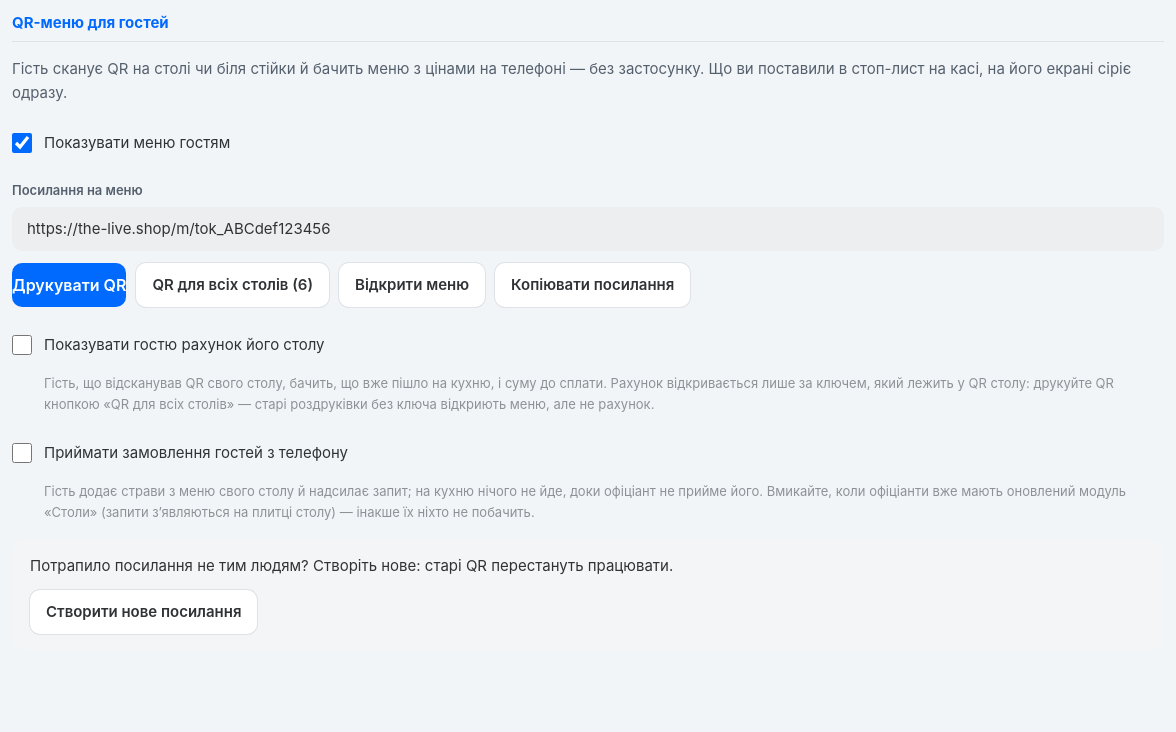
Test case: PublicMenuCard › switches the guest bill with its own field, leaving the menu’s switch alone
Click the checkbox labelled "Показувати гостю рахунок його столу" at (22, 345), box [12,335,32,355]
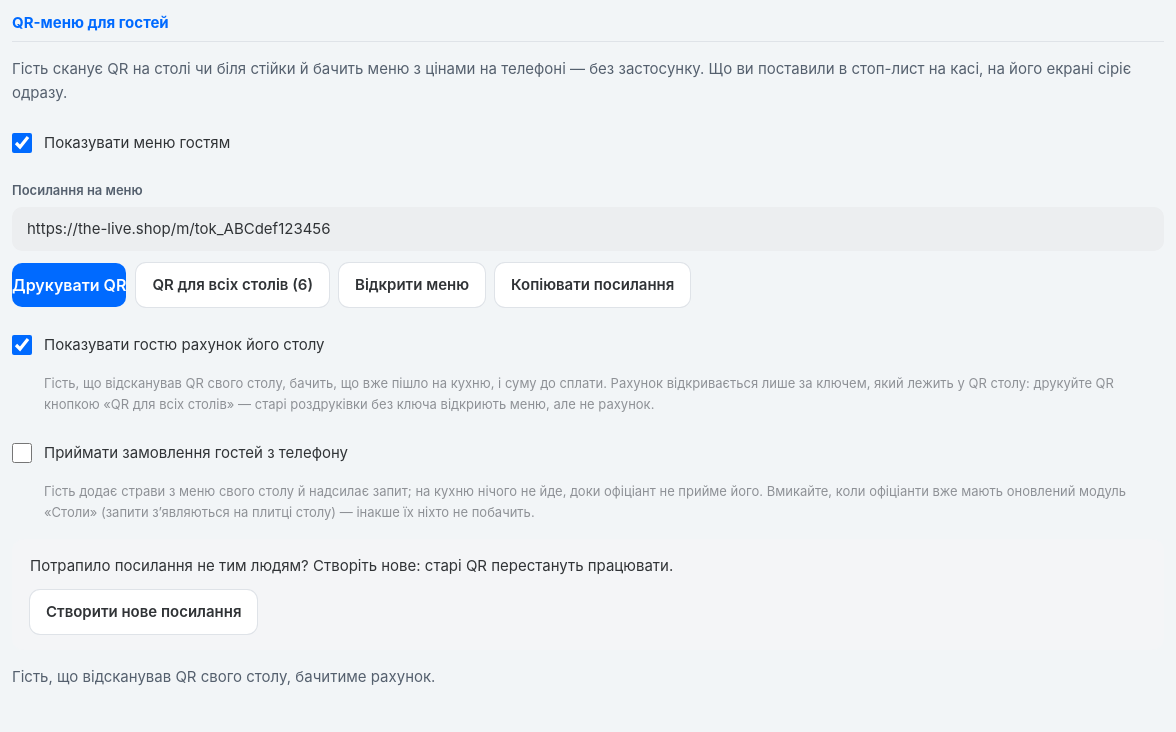
Expected: the checkbox labelled "Показувати меню гостям" is checked, [12,133,32,153]
Now the checkbox labelled "Показувати гостю рахунок його столу" is checked, box [12,335,32,355]
Now the message shows "бачитиме рахунок", box [12,667,435,686]
